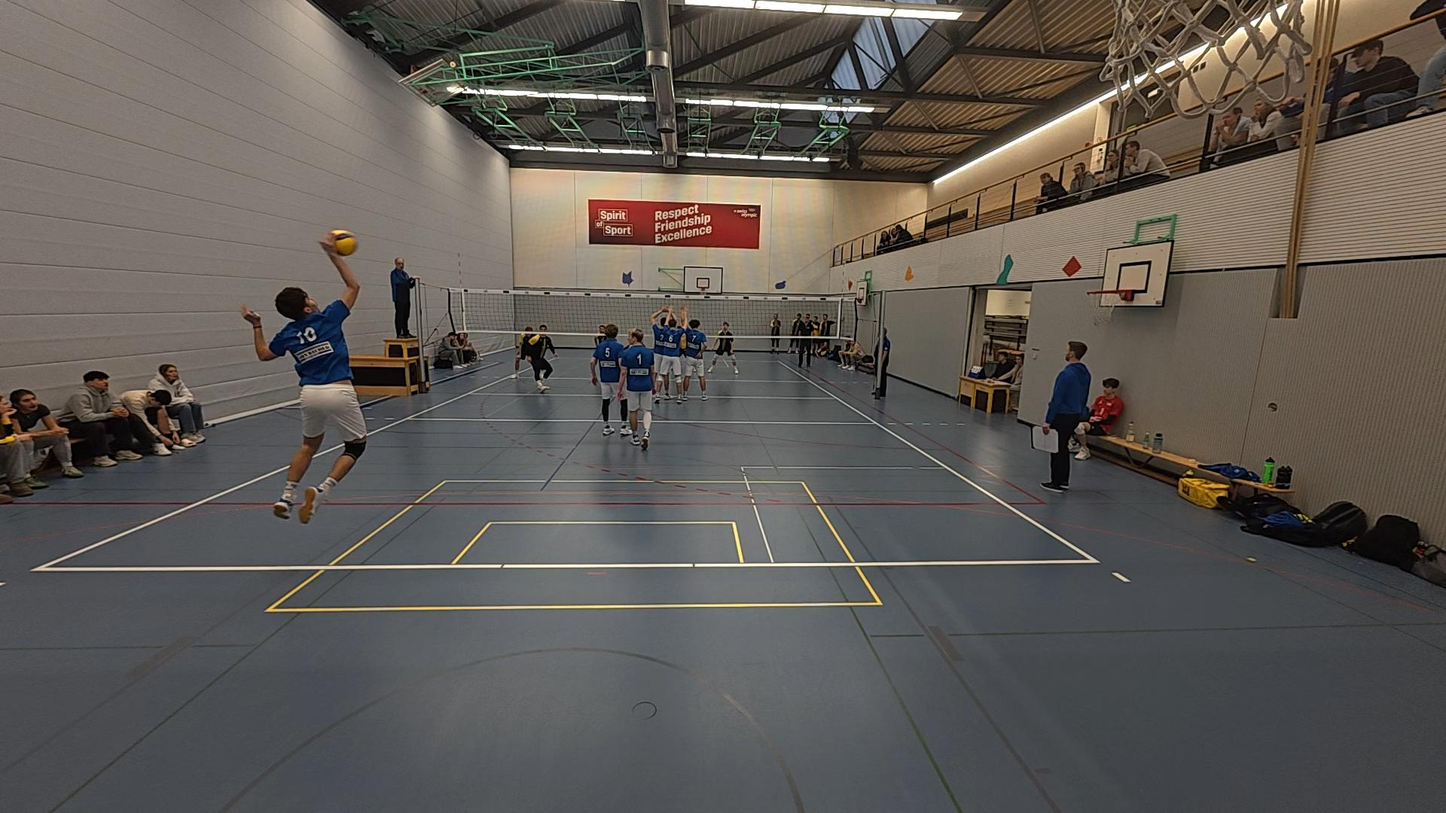battuta: (241, 239, 368, 525)
